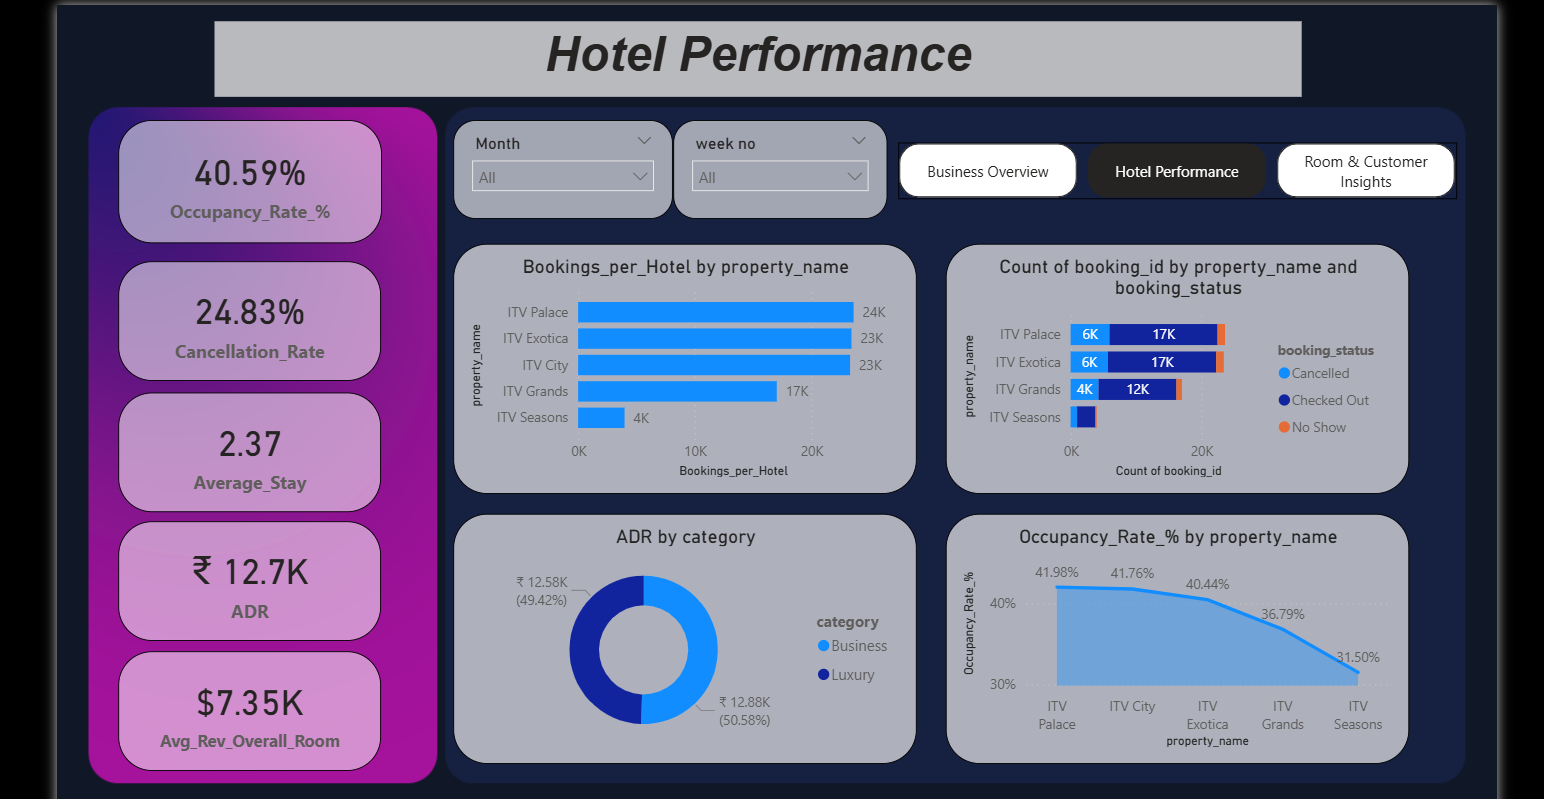

Layout of this report page (visuals, bound fields, positions):
{"tool":"powerbi","page":{"name":"Hotel Performance","canvas":[1280,720],"ordinal":1},"visuals":[{"type":"card","fields":{"Values":["Measures_2.Revenue_Per_Available_Room"]},"box":[54.8,574.2,233.7,106.8],"z":0},{"type":"card","fields":{"Values":["Measures_2.Average_Daily_Rate"]},"box":[54.8,458.8,233.7,106.8],"z":1000},{"type":"card","fields":{"Values":["Measures_2.Average_Length_Stay"]},"box":[54.8,344.8,233.7,106.8],"z":2000},{"type":"card","fields":{"Values":["Measures_2.Cancellation_Rate"]},"box":[54.8,228,233.7,106.8],"z":3000},{"type":"card","fields":{"Values":["Measures_1.Occupancy_Rate_%"]},"box":[54.3,102.5,234,109.8],"z":4000},{"type":"textbox","box":[139.9,14.5,966.4,67.6],"z":5000},{"type":"clusteredBarChart","fields":{"Category":["dim_hotels.property_name"],"Y":["Measures_2.Bookings_per_Hotel"]},"box":[351.7,212.1,412.1,222.4],"z":6000},{"type":"barChart","fields":{"Category":["dim_hotels.property_name"],"Series":["fact_bookings.booking_status"],"Y":["CountNonNull(fact_bookings.booking_id)"]},"box":[789.7,212.1,412.1,222.4],"z":7000},{"type":"donutChart","fields":{"Category":["dim_hotels.category"],"Y":["Measures_2.Average_Per_Room"]},"box":[351.7,451.7,412.1,222.4],"z":8000},{"type":"areaChart","fields":{"Category":["dim_hotels.property_name"],"Y":["Measures_2.Occupancy_Rate_%"]},"box":[789.7,451.7,412.1,222.4],"z":9000},{"type":"pageNavigator","box":[748,121.9,497.1,50.7],"z":10000},{"type":"slicer","fields":{"Values":["dim_date.mmm yy"]},"box":[352.3,102.5,195.4,88.1],"z":14000},{"type":"slicer","fields":{"Values":["dim_date.week no"]},"box":[547.7,102.5,190.6,88.1],"z":15000}]}

Visuals, with their boxes on the page's 1280x720 design canvas (x1, y1, x2, y2). These are canvas units, not pixel positions in the 1544x799 screenshot, which may show the page scaled, cropped or inside an application window:
card - Measures_2.Revenue_Per_Available_Room: 55 574 288 681
card - Measures_2.Average_Daily_Rate: 55 459 288 566
card - Measures_2.Average_Length_Stay: 55 345 288 452
card - Measures_2.Cancellation_Rate: 55 228 288 335
card - Measures_1.Occupancy_Rate_%: 54 102 288 212
textbox: 140 14 1106 82
clusteredBarChart - dim_hotels.property_name x Measures_2.Bookings_per_Hotel: 352 212 764 434
barChart - dim_hotels.property_name x fact_bookings.booking_status: 790 212 1202 434
donutChart - dim_hotels.category x Measures_2.Average_Per_Room: 352 452 764 674
areaChart - dim_hotels.property_name x Measures_2.Occupancy_Rate_%: 790 452 1202 674
pageNavigator: 748 122 1245 173
slicer - dim_date.mmm yy: 352 102 548 191
slicer - dim_date.week no: 548 102 738 191
